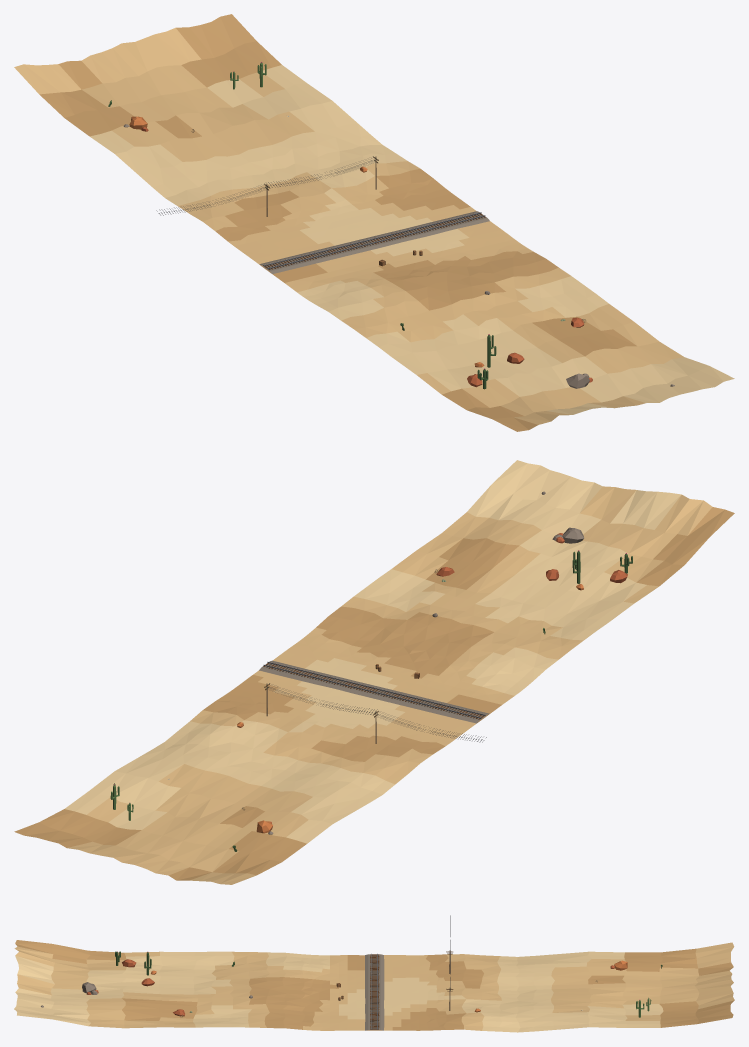
Rendered from SM_FG_Chunk_Landmark_WaterTower_A.fbx.
The picture shows the model from 3 angles, top to bottom: view 1: azimuth 30°, elevation 25°; view 2: azimuth 150°, elevation 25°; view 3: azimuth 270°, elevation 25°; orthographic projection. The views are drawn at different scales.
Parts seen in each view (by area): view 1: FG_Chunk_Landmark_WaterTower_A_Track; view 2: FG_Chunk_Landmark_WaterTower_A_Track; view 3: FG_Chunk_Landmark_WaterTower_A_Track.
Boxes of the visible parts, x1,y1,x2,y2 form: FG_Chunk_Landmark_WaterTower_A_Track: [14, 14, 734, 431]; FG_Chunk_Landmark_WaterTower_A_Track: [14, 460, 734, 884]; FG_Chunk_Landmark_WaterTower_A_Track: [14, 915, 734, 1032].
Bounding box in the file's own units: 6250 × 842 × 20151.
